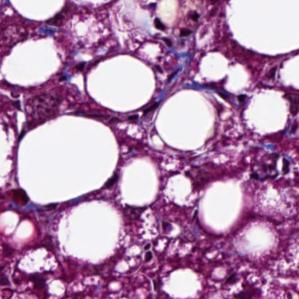inflammation: (237, 145, 299, 189), (149, 7, 202, 42), (131, 234, 179, 266)
